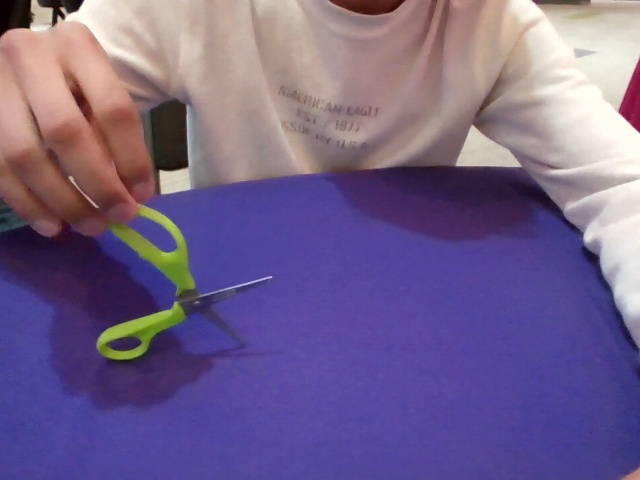tijeras: (96, 261, 274, 363)
